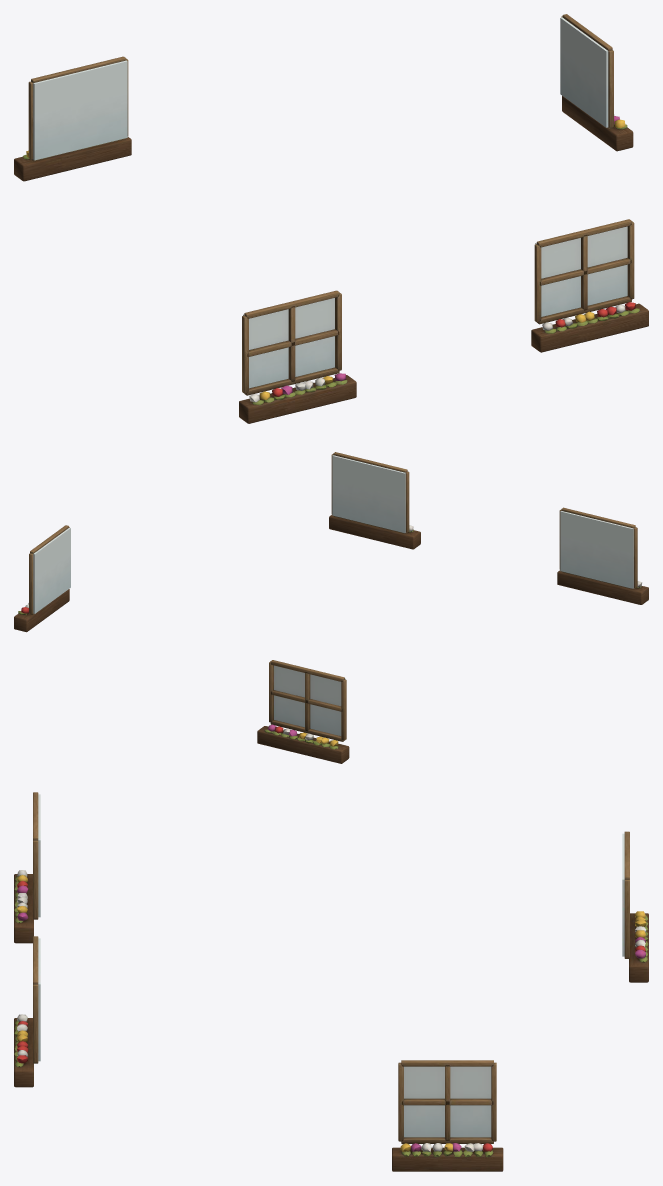
Rendered from home_ext_windows.glb.
3 views of the same model, one above another, from view 1: azimuth 30°, elevation 25°; view 2: azimuth 150°, elevation 25°; view 3: azimuth 270°, elevation 25° (orthographic). The views are drawn at different scales.
Visible parts, largest first — view 1: home_ext_windows; view 2: home_ext_windows; view 3: home_ext_windows.
Part boxes in pixels (x1,y1,x2,y2): home_ext_windows: (14, 14, 648, 423); home_ext_windows: (14, 452, 648, 763); home_ext_windows: (14, 792, 648, 1171).
Bounding box in the file's own units: 8.64 × 1.46 × 8.2.
Materials: 1 (1 with a texture image).
